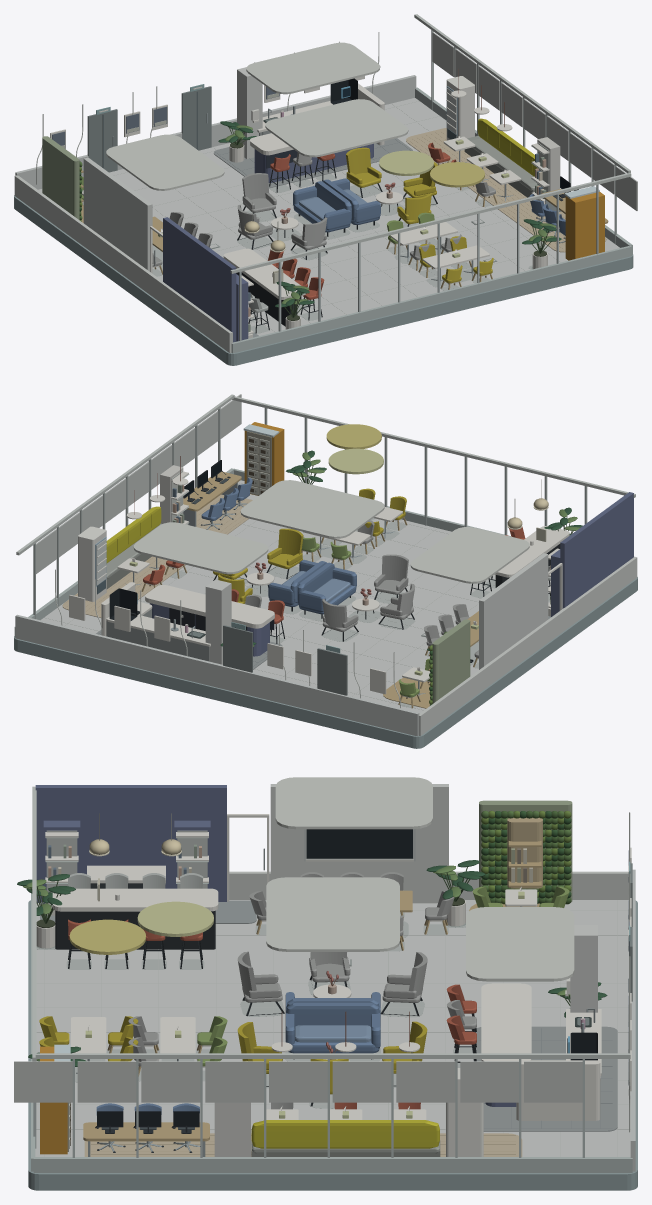
File: atlas-scene.glb
3 views of the same model, one above another, from view 1: azimuth 30°, elevation 25°; view 2: azimuth 150°, elevation 25°; view 3: azimuth 270°, elevation 25° (orthographic). The views are drawn at different scales.
Visible parts, largest first — view 1: 墙体与装饰, 建筑外壳与地面, 顶棚与灯具, 咖啡水吧, 黄色卡座, 橙色储物柜, 蓝色双人沙发 1, 双面高吧台, 灯光展示书架 1, 芥末黄休闲椅 1, 蓝色双人沙发 2, 浅灰休闲椅 1 (+14 smaller); view 2: 墙体与装饰, 建筑外壳与地面, 顶棚与灯具, 咖啡水吧, 黄色卡座, 橙色储物柜, 蓝色双人沙发 1, 共享电脑桌与设备, 双面高吧台, 芥末黄休闲椅 2, 灯光展示书架 1, 浅灰休闲椅 2 (+8 smaller); view 3: 墙体与装饰, 建筑外壳与地面, 顶棚与灯具, 咖啡水吧, 黄色卡座, 双面高吧台, 蓝色双人沙发 2, 共享电脑桌与设备, 灯光展示书架 3, 灯光展示书架 2, 灯光展示书架 1, 橙色储物柜 (+15 smaller).
Part boxes in pixels (x1=…): 墙体与装饰: x1=14, y1=14, x2=637, y2=353; 建筑外壳与地面: x1=14, y1=98, x2=633, y2=365; 顶棚与灯具: x1=106, y1=42, x2=512, y2=252; 咖啡水吧: x1=237, y1=67, x2=384, y2=182; 黄色卡座: x1=446, y1=76, x2=537, y2=197; 橙色储物柜: x1=564, y1=186, x2=604, y2=260; 蓝色双人沙发 1: x1=293, y1=181, x2=351, y2=239; 双面高吧台: x1=223, y1=248, x2=305, y2=326; 灯光展示书架 1: x1=531, y1=137, x2=560, y2=204; 芥末黄休闲椅 1: x1=346, y1=147, x2=382, y2=197; 蓝色双人沙发 2: x1=322, y1=178, x2=380, y2=232; 浅灰休闲椅 1: x1=242, y1=173, x2=276, y2=222; 墙体与装饰: x1=14, y1=394, x2=637, y2=736; 建筑外壳与地面: x1=14, y1=480, x2=637, y2=748; 顶棚与灯具: x1=126, y1=424, x2=548, y2=583; 咖啡水吧: x1=101, y1=579, x2=274, y2=664; 黄色卡座: x1=78, y1=506, x2=161, y2=601; 橙色储物柜: x1=243, y1=422, x2=284, y2=495; 蓝色双人沙发 1: x1=297, y1=562, x2=356, y2=621; 共享电脑桌与设备: x1=183, y1=460, x2=241, y2=526; 双面高吧台: x1=494, y1=526, x2=569, y2=587; 芥末黄休闲椅 2: x1=266, y1=528, x2=303, y2=579; 灯光展示书架 1: x1=160, y1=465, x2=189, y2=524; 浅灰休闲椅 2: x1=374, y1=554, x2=408, y2=603; 墙体与装饰: x1=14, y1=784, x2=635, y2=1172; 建筑外壳与地面: x1=28, y1=900, x2=637, y2=1190; 顶棚与灯具: x1=69, y1=777, x2=574, y2=1052; 咖啡水吧: x1=481, y1=925, x2=601, y2=1120; 黄色卡座: x1=251, y1=1068, x2=483, y2=1156; 双面高吧台: x1=52, y1=865, x2=218, y2=949; 蓝色双人沙发 2: x1=285, y1=1002, x2=380, y2=1061; 共享电脑桌与设备: x1=83, y1=1111, x2=209, y2=1156; 灯光展示书架 3: x1=43, y1=820, x2=80, y2=915; 灯光展示书架 2: x1=174, y1=820, x2=210, y2=888; 灯光展示书架 1: x1=214, y1=1102, x2=250, y2=1156; 橙色储物柜: x1=40, y1=1044, x2=70, y2=1154.
Bounding box in the file's own units: 15.35 × 3.97 × 14.69.
